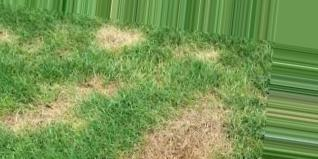patch: (174, 103, 228, 157), (76, 70, 125, 106), (37, 102, 90, 129), (99, 22, 130, 45), (190, 46, 212, 64), (3, 28, 11, 38)
